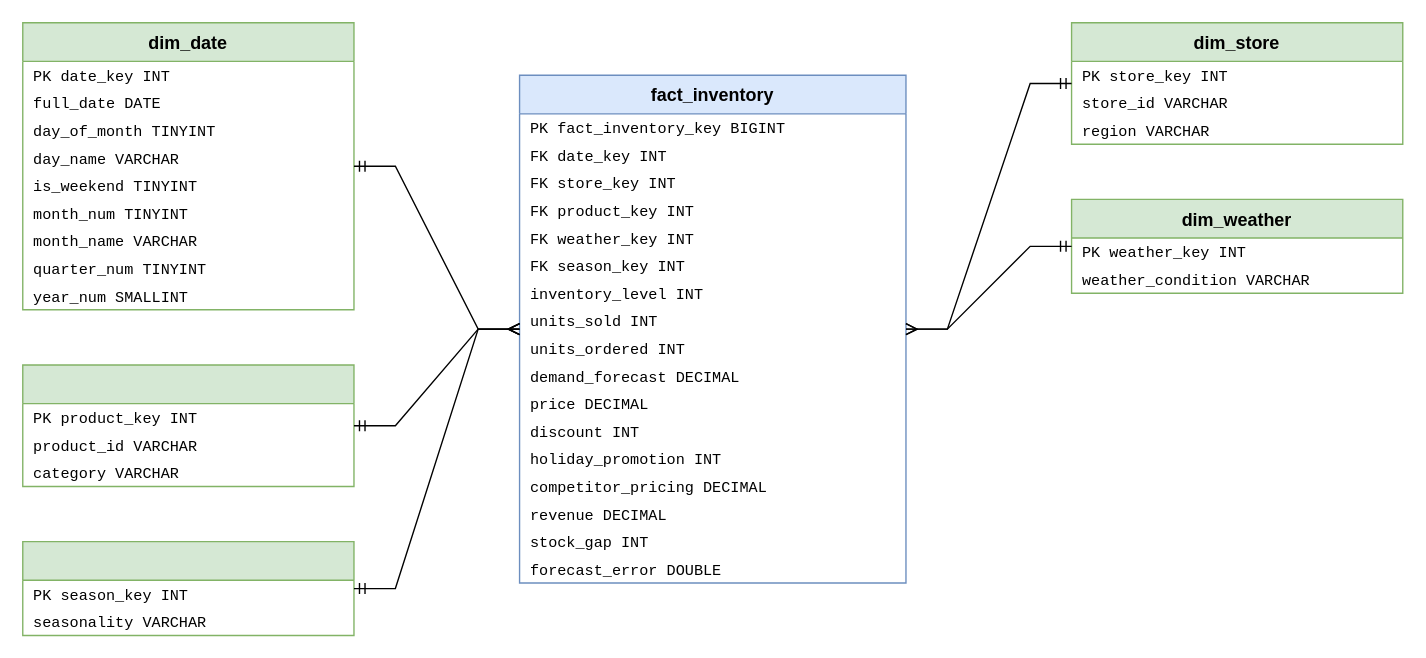
This 1426x658 diagram has some shape labels left out. Here are the shapes that lost their labels. From the top down, the box of each, then its label:
(21, 364, 354, 486): dim_product
(21, 540, 354, 635): dim_season
